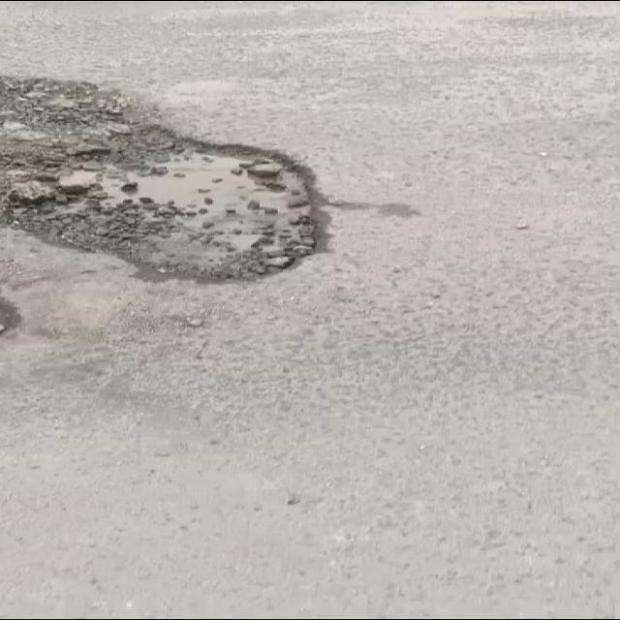lubang: (0, 77, 317, 278)
